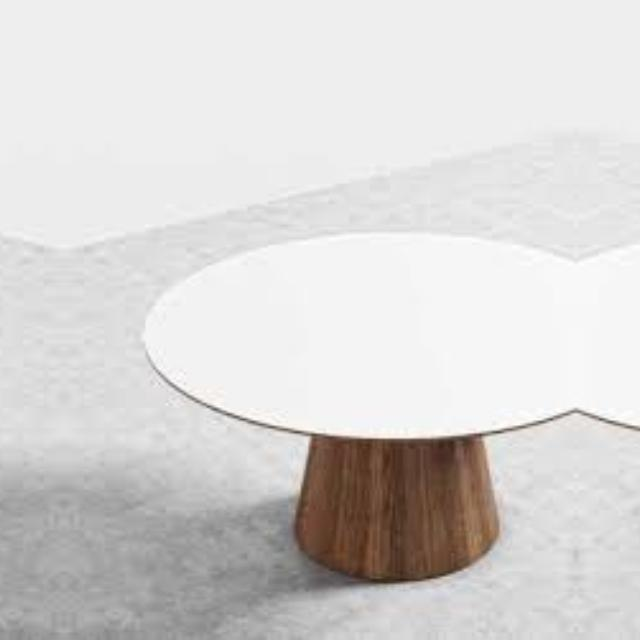obstacle: (120, 177, 576, 598), (575, 177, 640, 598), (0, 177, 5, 598)
